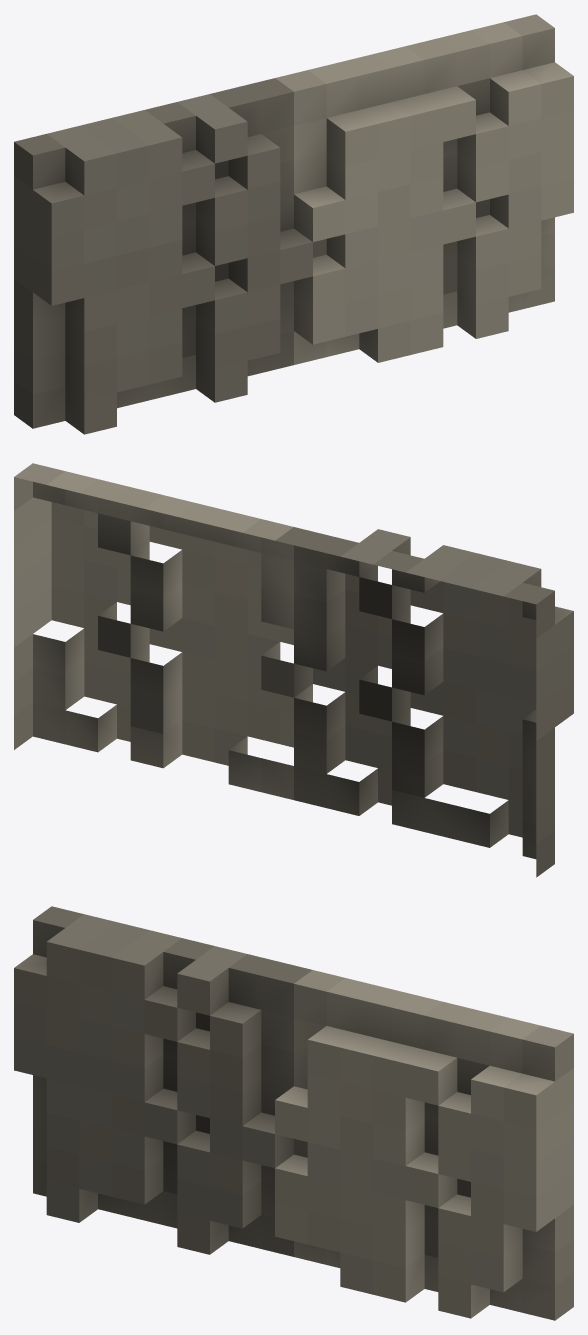
Rendered from ashlar_plain_0.glb.
3 renders of one model, top to bottom at view 1: azimuth 30°, elevation 25°; view 2: azimuth 150°, elevation 25°; view 3: azimuth 330°, elevation 25°, orthographic.
Parts seen in each view (by area): view 1: ashlar_plain_0; view 2: ashlar_plain_0; view 3: ashlar_plain_0.
Boxes of the visible parts, x1,y1,x2,y2 form: ashlar_plain_0: (14,14,573,434); ashlar_plain_0: (14,463,573,877); ashlar_plain_0: (14,906,573,1320).
Bounding box in the file's own units: 1 × 0.5 × 0.125.
